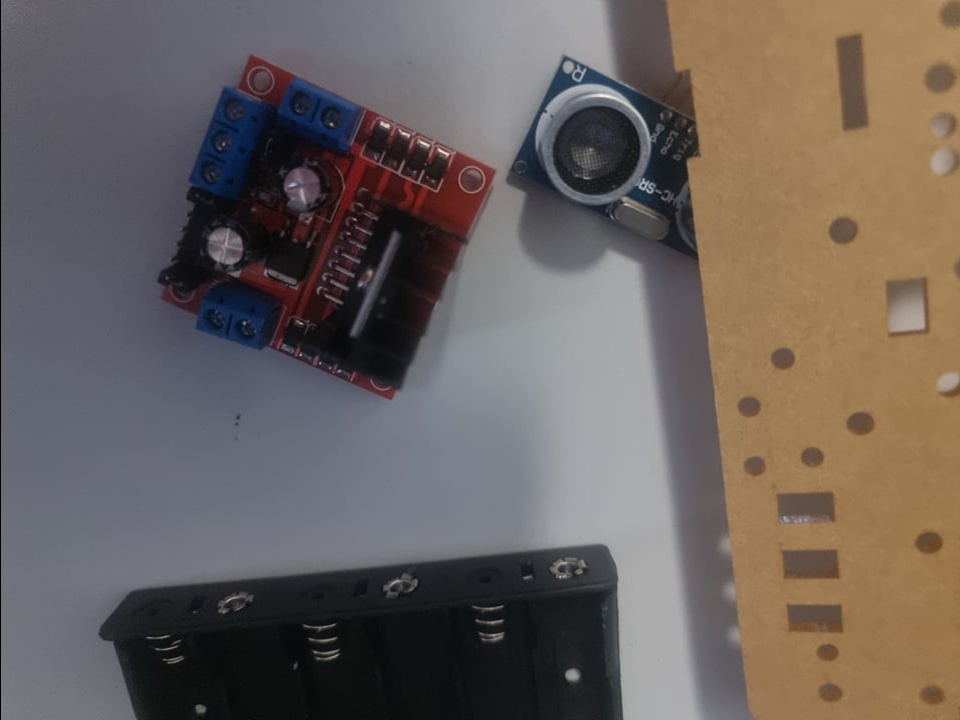BATTERY BOX: (98, 535, 625, 720)
MOTOR: (158, 52, 495, 400)
SENSOR: (501, 25, 722, 272)
